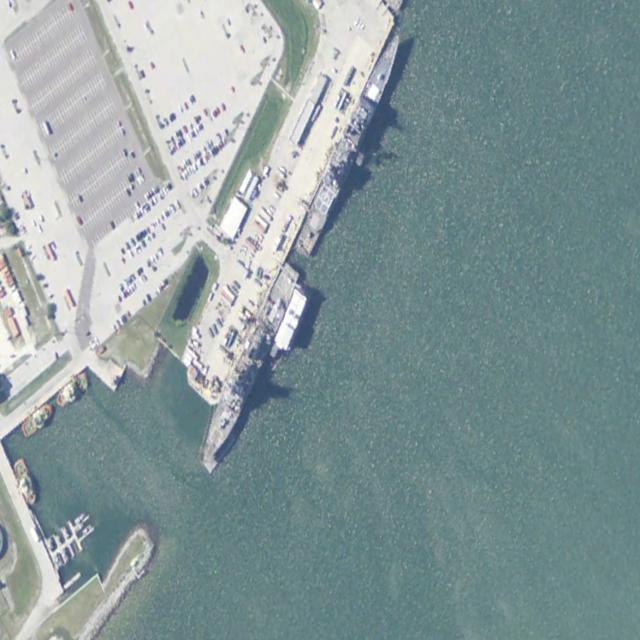Cruiser: (293, 26, 407, 260)
Frigate: (196, 260, 301, 472)
Hovercraft: (53, 370, 91, 412), (11, 454, 40, 508), (18, 399, 55, 441)
